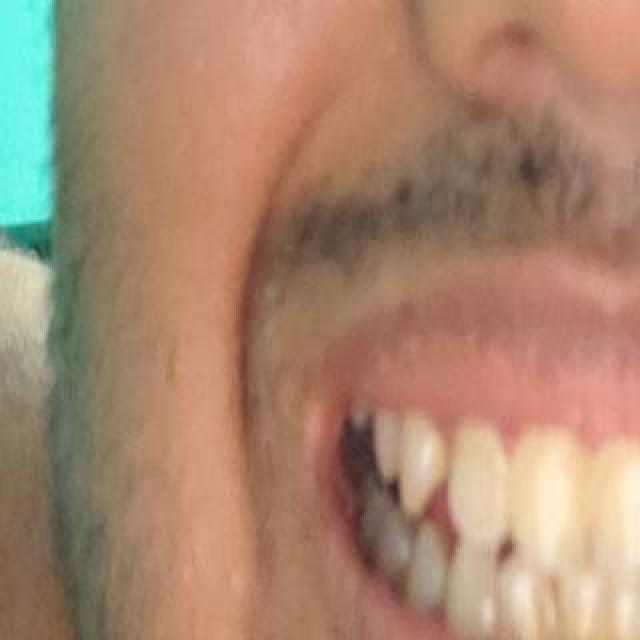calculus: (501, 420, 579, 538), (588, 434, 640, 544), (502, 574, 560, 640), (558, 574, 616, 640), (414, 428, 460, 500), (614, 602, 640, 640)
